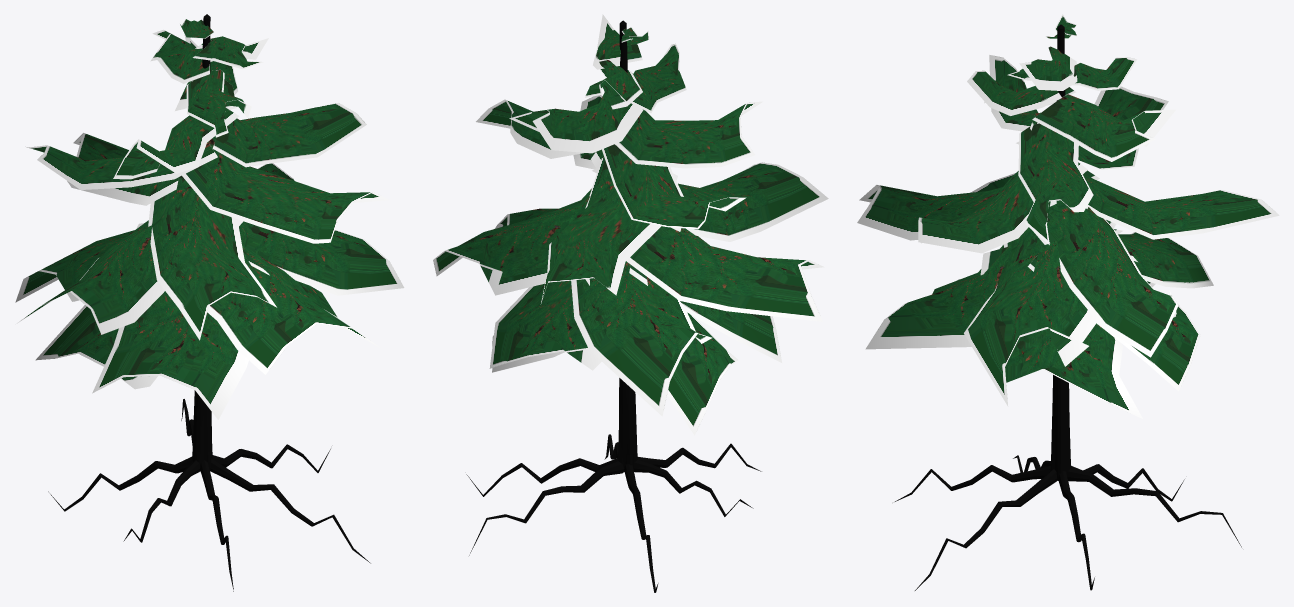
Rendered from Pine_6_LOD0.fbx.
The picture shows the model from 3 angles, left to right: view 1: azimuth 30°, elevation 25°; view 2: azimuth 150°, elevation 25°; view 3: azimuth 270°, elevation 25°; orthographic projection.
Visible parts, largest first — view 1: Pine_6; view 2: Pine_6; view 3: Pine_6.
Part boxes in pixels (x1,y1,x2,y2): Pine_6: [15, 14, 404, 591]; Pine_6: [433, 14, 828, 592]; Pine_6: [857, 14, 1279, 590].
Size of the model in its own units: 53.78 by 72.48 by 53.08.
